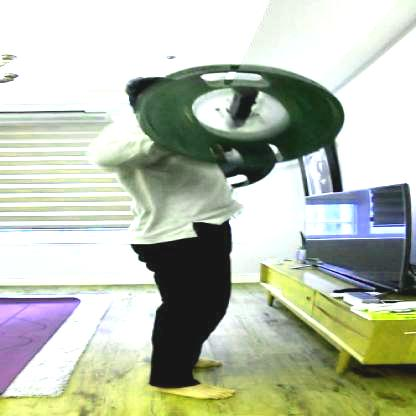Barbell: (222, 75, 268, 101)
